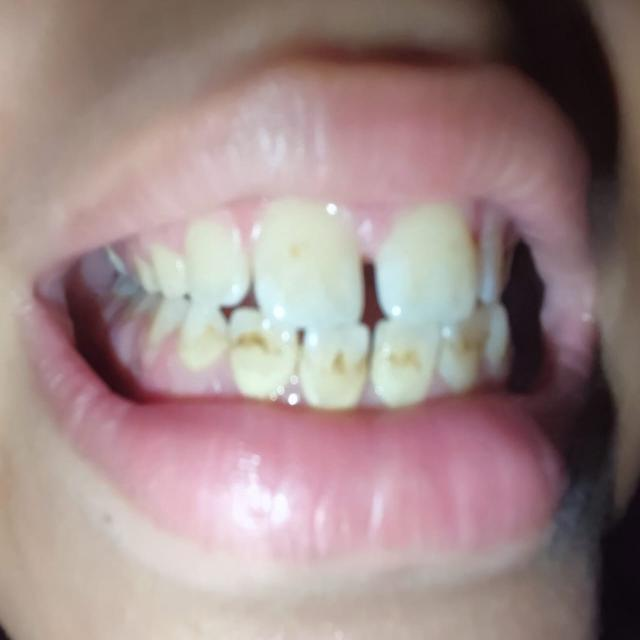tooth: (250, 189, 366, 333), (371, 209, 491, 327), (230, 302, 298, 407), (372, 328, 440, 413), (298, 324, 365, 409), (178, 230, 251, 306), (186, 306, 226, 368)
